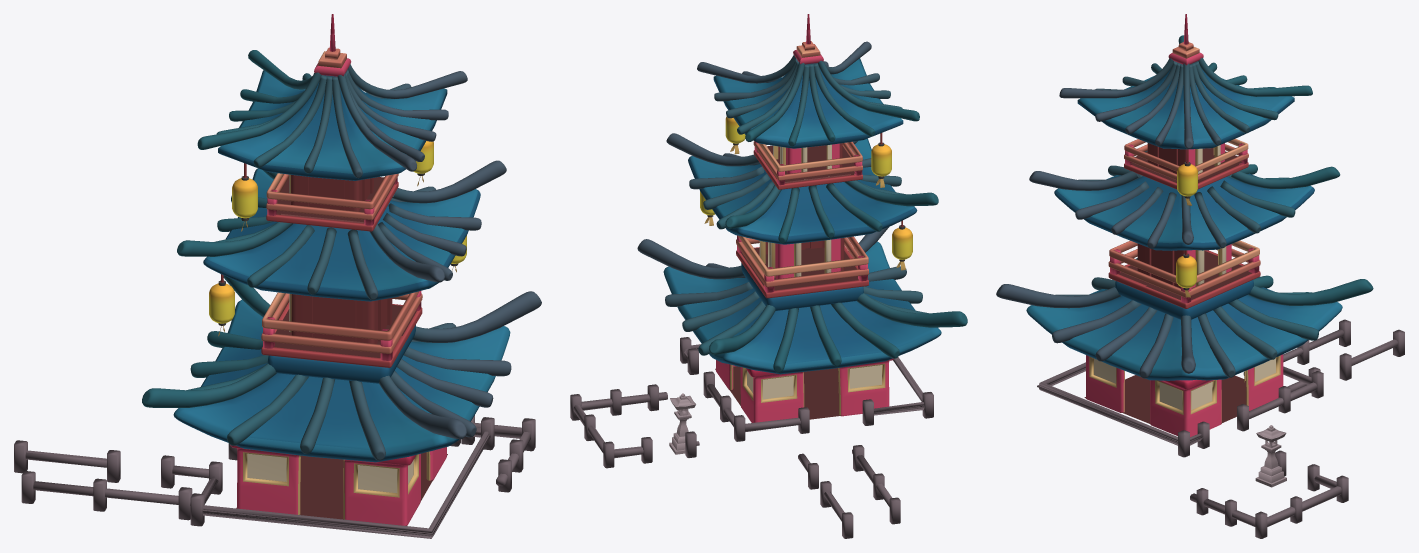
The model's file is Temple japan.fbx.
3 renders of one model, left to right at view 1: azimuth 30°, elevation 25°; view 2: azimuth 150°, elevation 25°; view 3: azimuth 270°, elevation 25°, orthographic. The views are drawn at different scales.
Parts seen in each view (by area): view 1: Temple, lantern2, lantern1; view 2: Temple, lantern2, lantern1; view 3: Temple, lantern4, lantern3.
Boxes of the visible parts, x1,y1,x2,y2 form: Temple: [14, 14, 541, 538]; lantern2: [232, 163, 257, 231]; lantern1: [209, 274, 234, 336]; Temple: [570, 14, 967, 538]; lantern2: [871, 133, 891, 187]; lantern1: [892, 220, 912, 270]; Temple: [996, 14, 1404, 538]; lantern4: [1177, 149, 1197, 205]; lantern3: [1176, 250, 1196, 297].
Bounding box in the file's own units: 1402 × 1531 × 1331.
